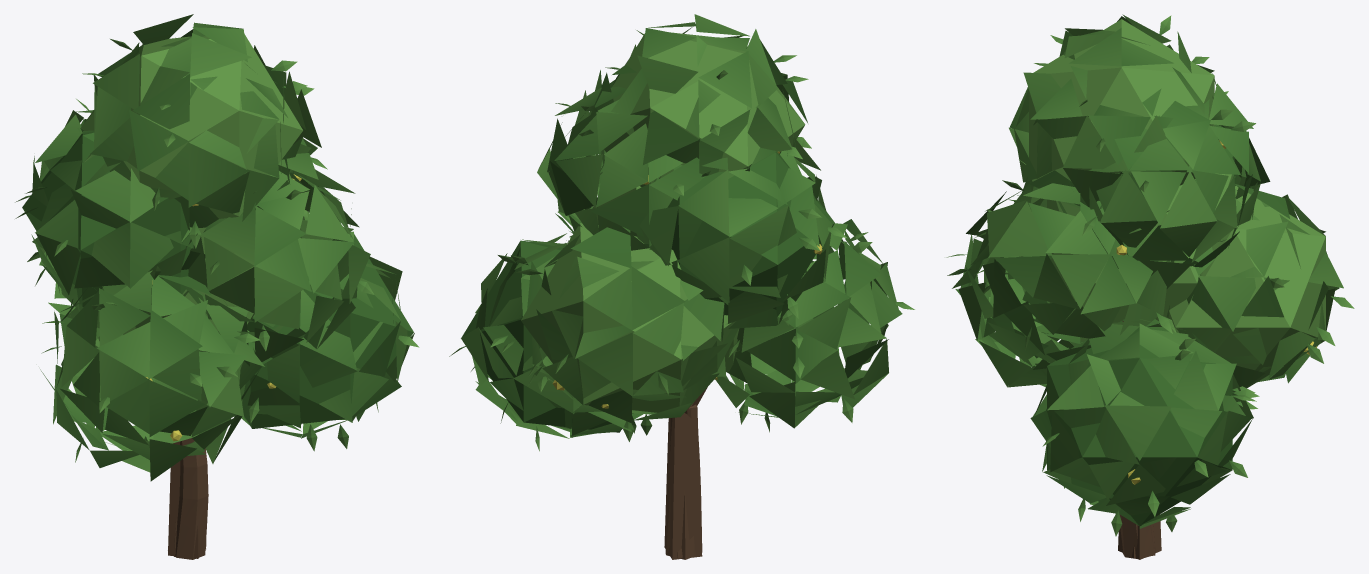
Rendered from pear.glb.
3 views of the same model, side by side, from view 1: azimuth 30°, elevation 25°; view 2: azimuth 150°, elevation 25°; view 3: azimuth 270°, elevation 25° (orthographic). The views are drawn at different scales.
Parts seen in each view (by area): view 1: leaves (×3), trunk; view 2: leaves (×3), trunk; view 3: leaves (×3), trunk.
Boxes of the visible parts, x1,y1,x2,y2 form: leaves (×3): [15, 14, 419, 558]; trunk: [166, 316, 208, 559]; leaves (×3): [449, 14, 914, 559]; trunk: [665, 387, 707, 557]; leaves (×3): [946, 14, 1354, 559]; trunk: [1119, 320, 1155, 558].
Bounding box in the file's own units: 0.7563 × 1 × 0.7125.
